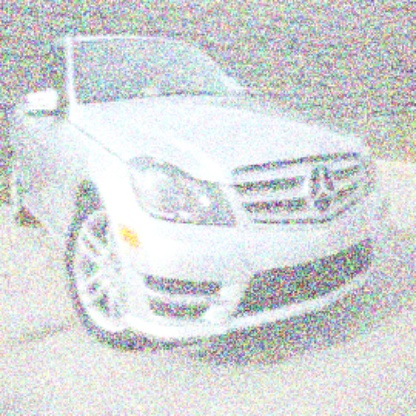Vehicle: (8, 37, 392, 352)
